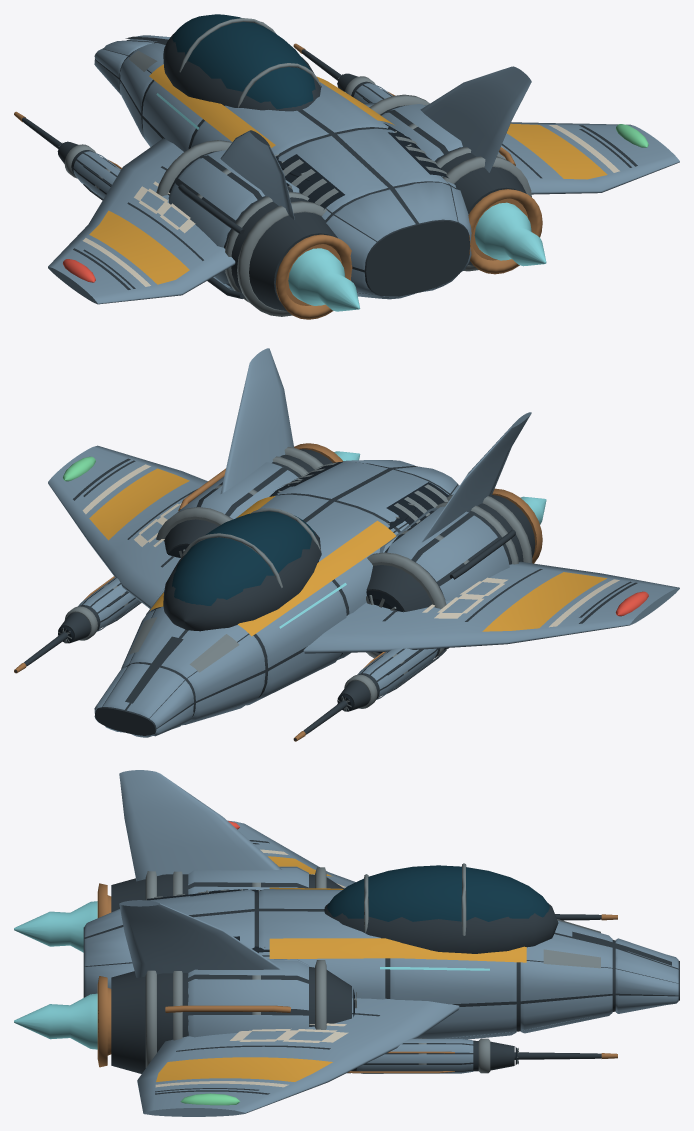
File: range.glb
3 renders of one model, top to bottom at view 1: azimuth 30°, elevation 25°; view 2: azimuth 150°, elevation 25°; view 3: azimuth 270°, elevation 25°, orthographic.
Visible parts, largest first — view 1: range; view 2: range; view 3: range.
Part boxes in pixels (x1,y1,x2,y2): range: [14, 14, 679, 319]; range: [14, 348, 679, 741]; range: [14, 770, 679, 1116].
Size of the model in its own units: 6.24 by 1.99 by 6.08.
